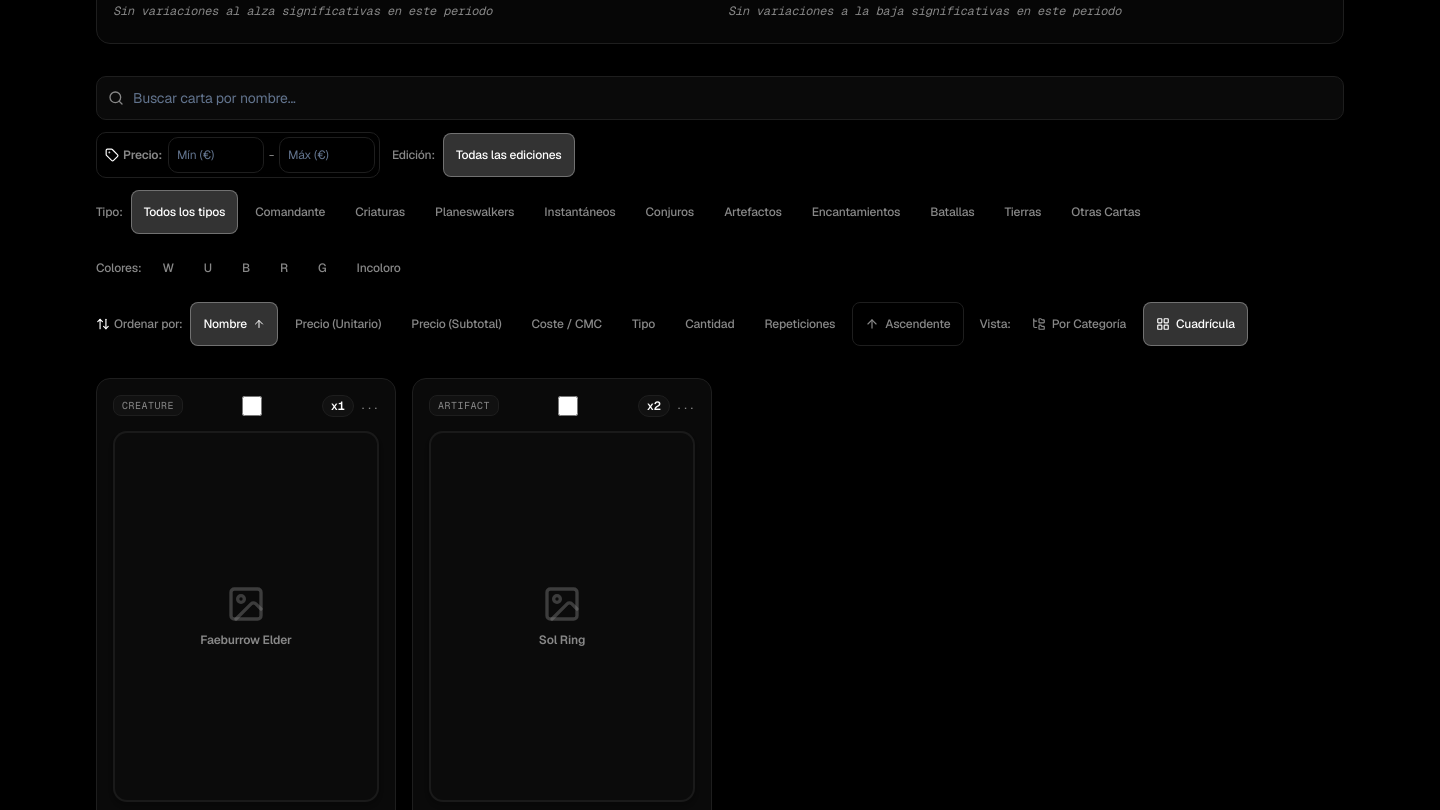
Test: WantsView listing › moves selected wants optimistically and continues after a card fails
(page scrolled)
Click the checkbox named "Seleccionar Faeburrow Elder": [252, 406] box [242, 396, 262, 416]
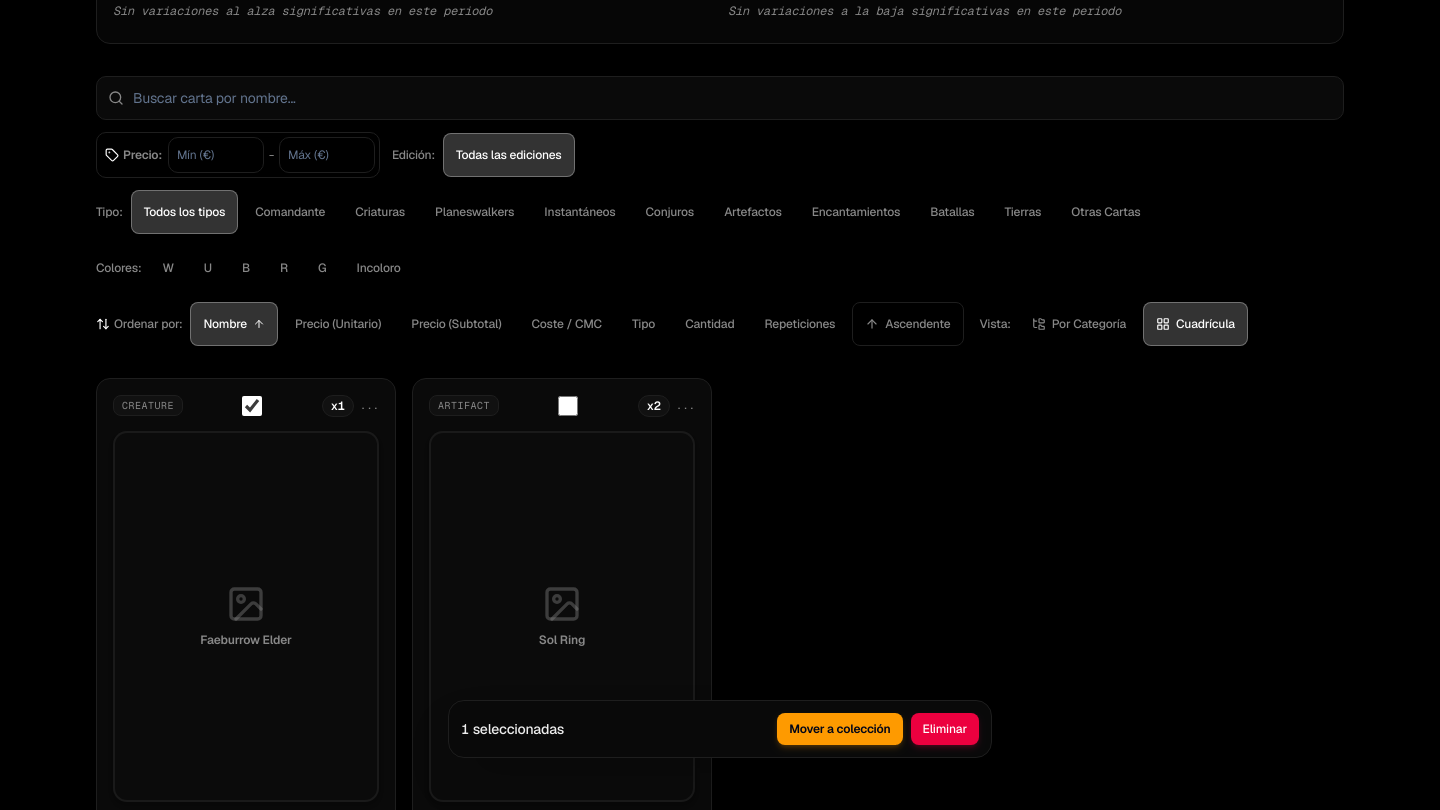
Click the checkbox named "Seleccionar Sol Ring": [568, 406] box [558, 396, 578, 416]
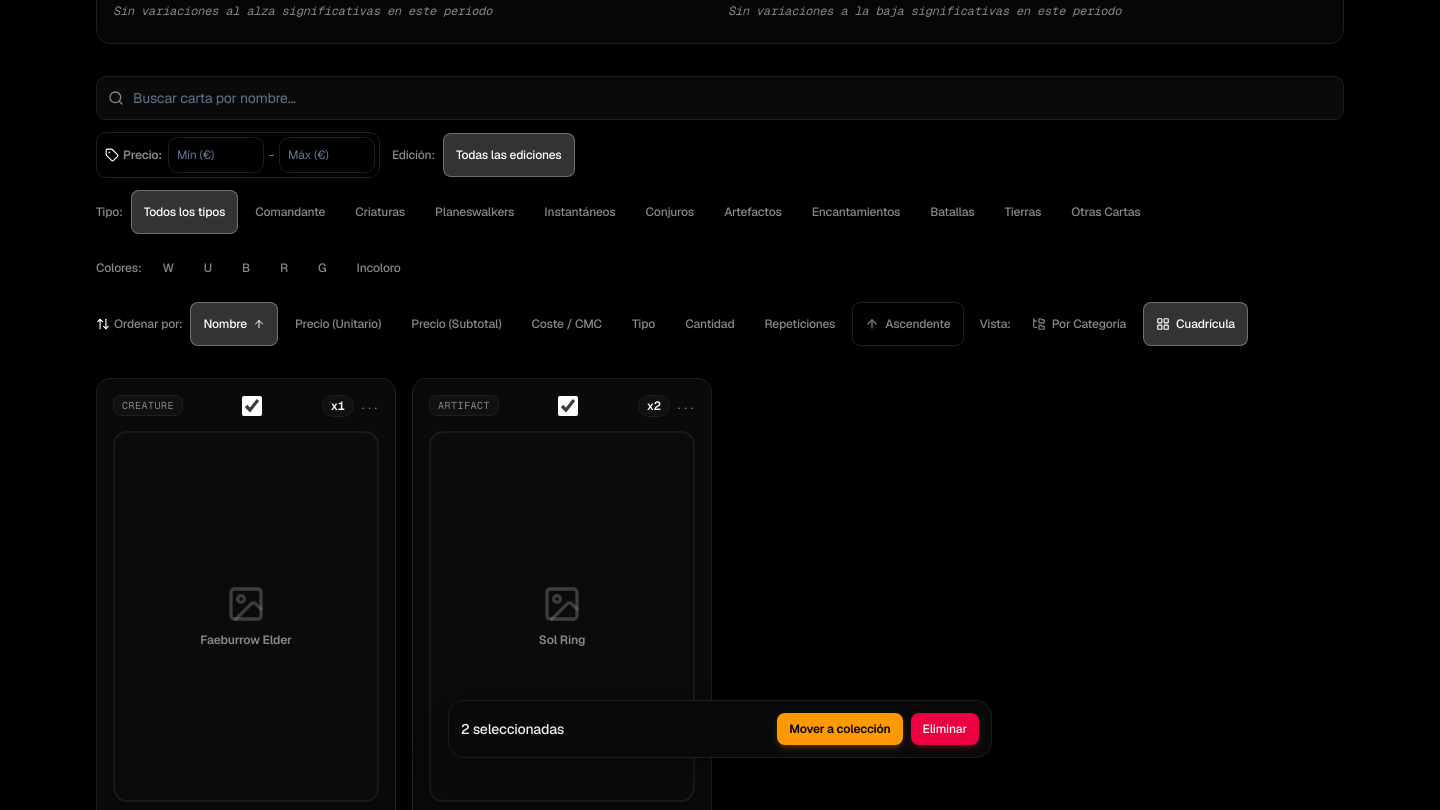
Click the button "Mover a colección": [840, 729] box [777, 713, 903, 745]
(page scrolled)
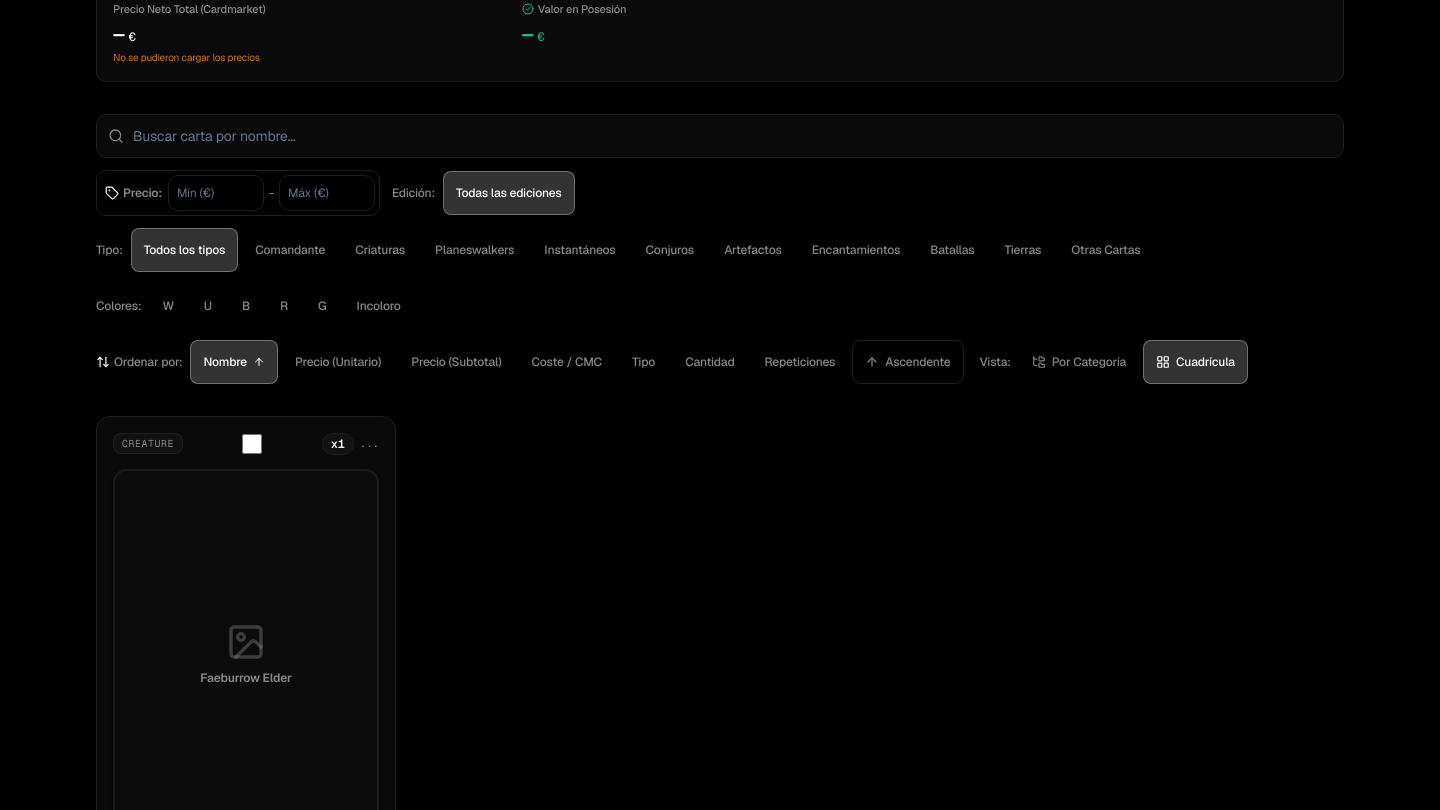
Expected: the text "Faeburrow Elder" is shown, [200, 670, 292, 686]
Expected: the text "Sol Ring" is gone
